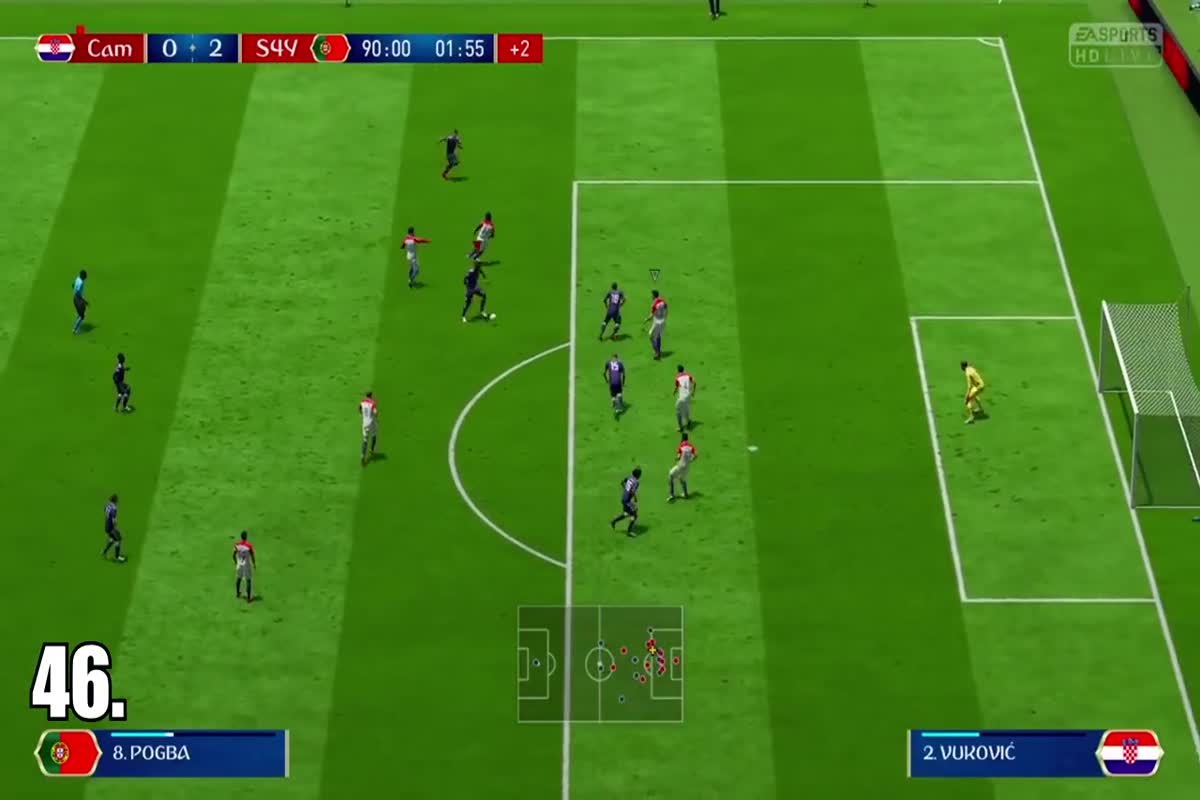ball: (486, 303, 512, 325)
